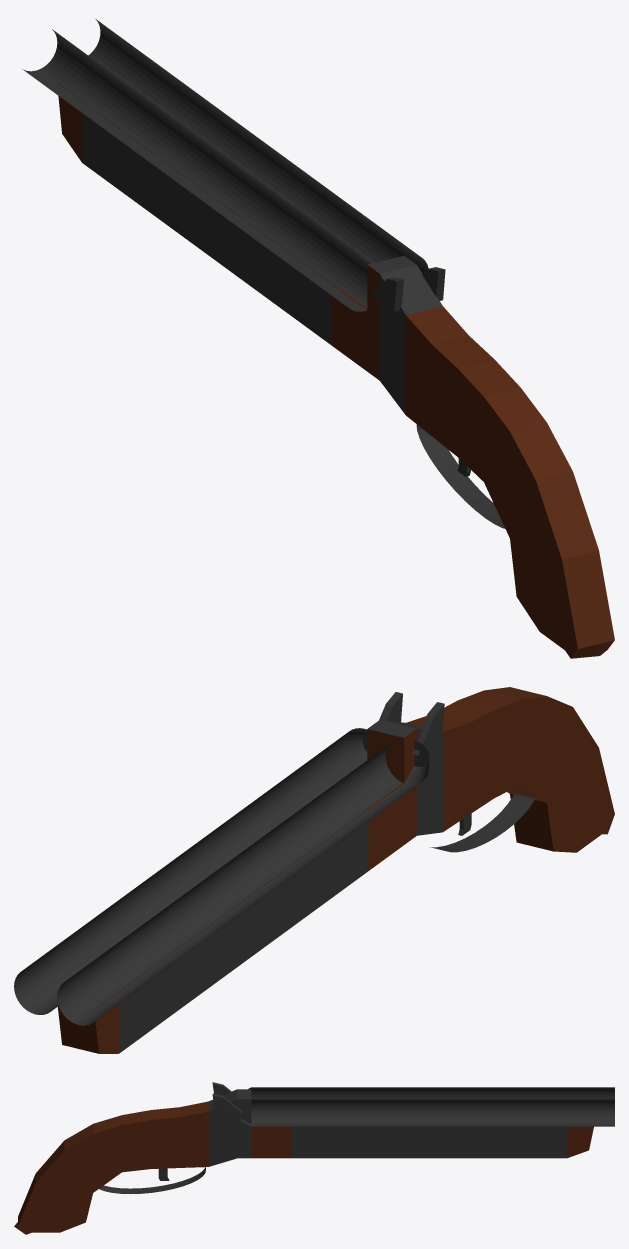
Rendered from kal_shootgun.glb.
The picture shows the model from 3 angles, top to bottom: view 1: azimuth 30°, elevation 25°; view 2: azimuth 150°, elevation 25°; view 3: azimuth 270°, elevation 25°; orthographic projection. The views are drawn at different scales.
Parts seen in each view (by area): view 1: Цилиндр.002, Куб; view 2: Цилиндр.002, Куб; view 3: Цилиндр.002, Куб.
Boxes of the visible parts, x1=… form: Цилиндр.002: x1=22, y1=19, x2=428, y2=344; Куб: x1=331, y1=255, x2=614, y2=658; Цилиндр.002: x1=14, y1=728, x2=429, y2=1053; Куб: x1=367, y1=687, x2=614, y2=870; Цилиндр.002: x1=240, y1=1087, x2=614, y2=1158; Куб: x1=14, y1=1082, x2=290, y2=1234.
Size of the model in its own units: 0.4462 by 1.26 by 4.85.
